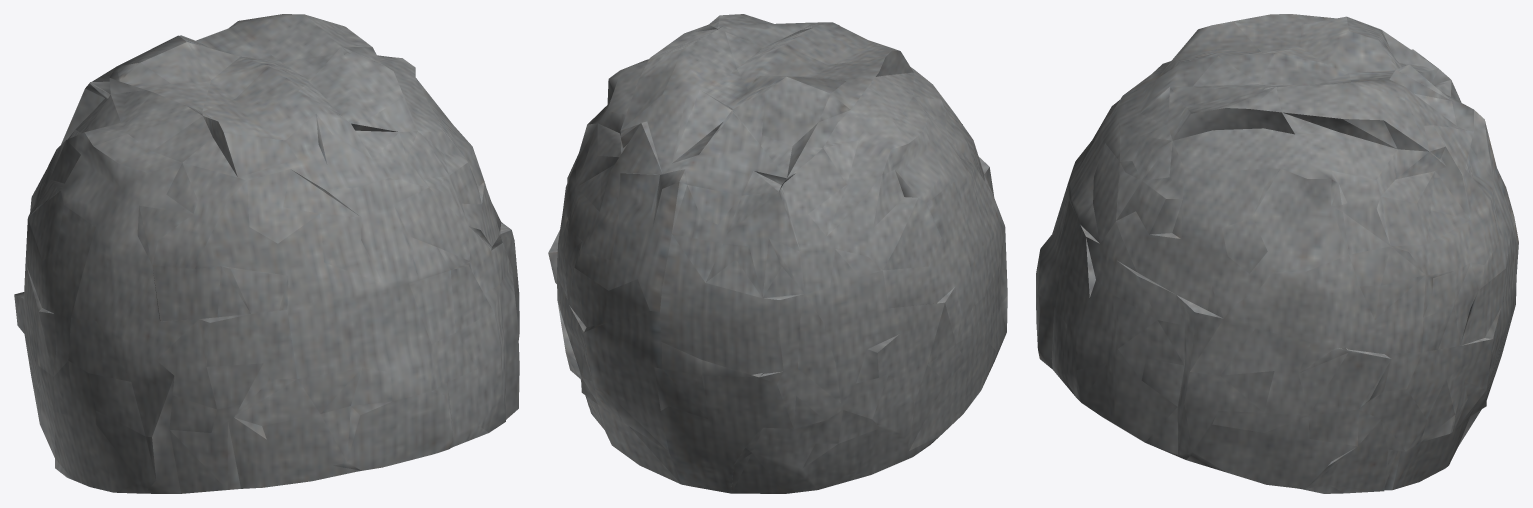
File: wear_beanie.glb
3 views of the same model, side by side, from view 1: azimuth 30°, elevation 25°; view 2: azimuth 150°, elevation 25°; view 3: azimuth 270°, elevation 25° (orthographic). The views are drawn at different scales.
Parts seen in each view (by area): view 1: mesh; view 2: mesh; view 3: mesh.
Part boxes in pixels (left/top/right/bottom): mesh: left=14, top=14, right=519, bottom=493; mesh: left=548, top=14, right=1007, bottom=493; mesh: left=1036, top=14, right=1518, bottom=493.
Bounding box in the file's own units: 0.1652 × 0.16 × 0.1793.
1 material, 1 textured.
